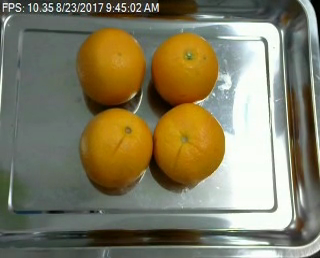Orange: (152, 103, 225, 183), (80, 108, 153, 187), (77, 28, 146, 104), (152, 31, 219, 103)
